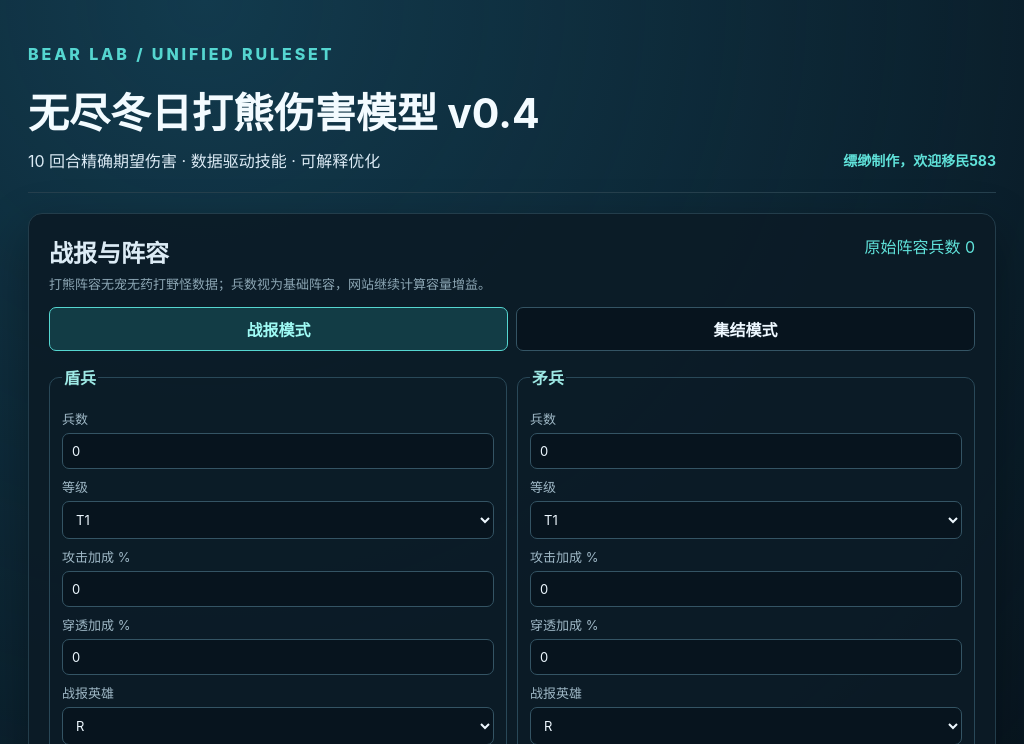
计算器UI有限选项与技能说明 › 战报与集结模式分别保存输入且集结模式隐藏容量等级
The image size is (1024, 744).
Expected: the element named "输入方式" is shown, left=49, top=307, right=975, bottom=351
Replace the text in the number field named "盾兵兵数" with "777" at (278, 451), box left=62, top=433, right=494, bottom=469
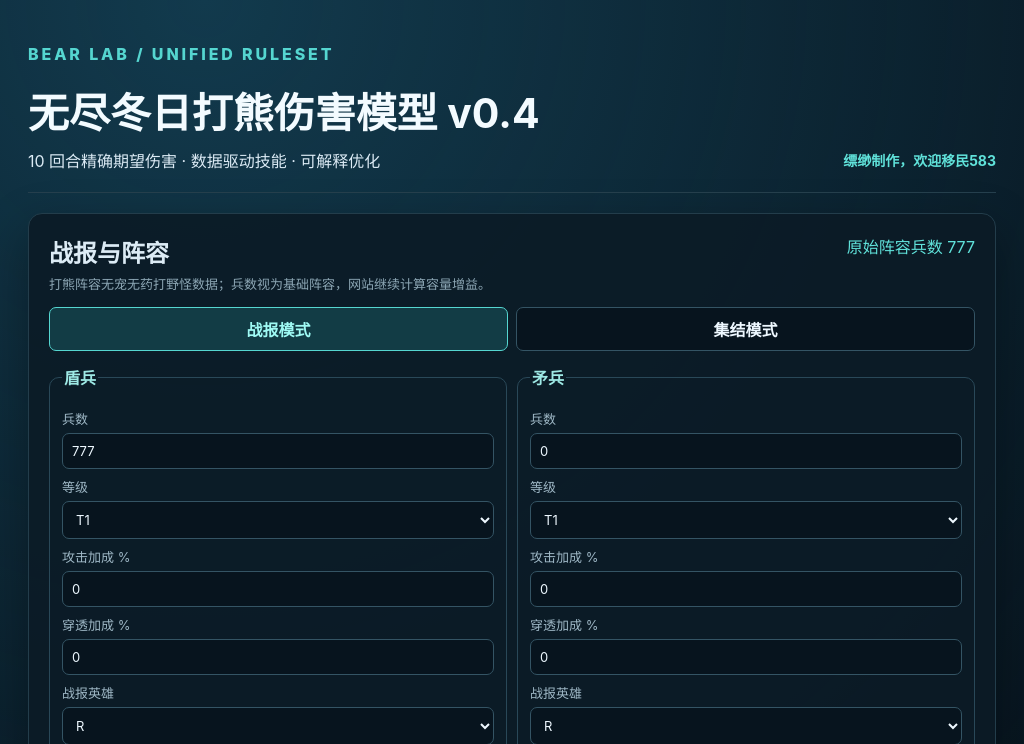
Click the button "集结模式" at (746, 329), box left=516, top=307, right=975, bottom=351
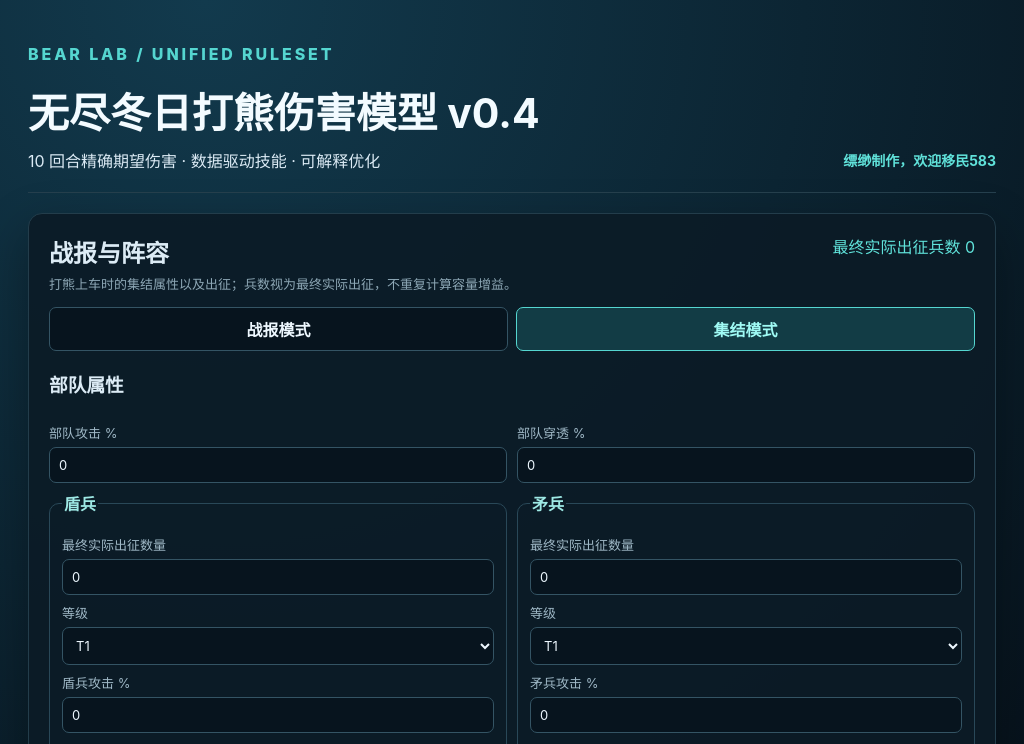
Expected: the text "打熊上车时的集结属性以及出征；兵数视为最终实际出征，不重复计算容量增益。" is shown, left=49, top=274, right=517, bottom=293
Expected: the number field labelled "部队攻击" is shown, left=49, top=447, right=507, bottom=483
Expected: the number field labelled "部队穿透" is shown, left=517, top=447, right=975, bottom=483
Replace the text in the number field named "盾兵兵数" with "888" at (278, 577), box left=62, top=559, right=494, bottom=595
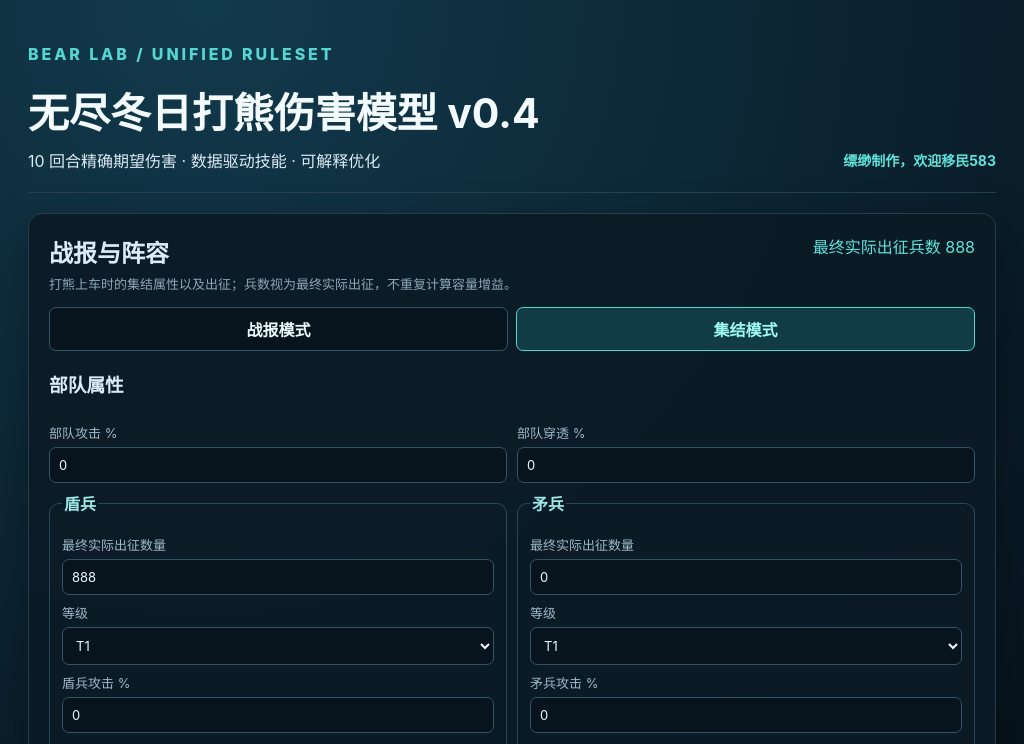
Replace the text in the number field labelled "部队攻击" with "333" at (278, 465), box left=49, top=447, right=507, bottom=483
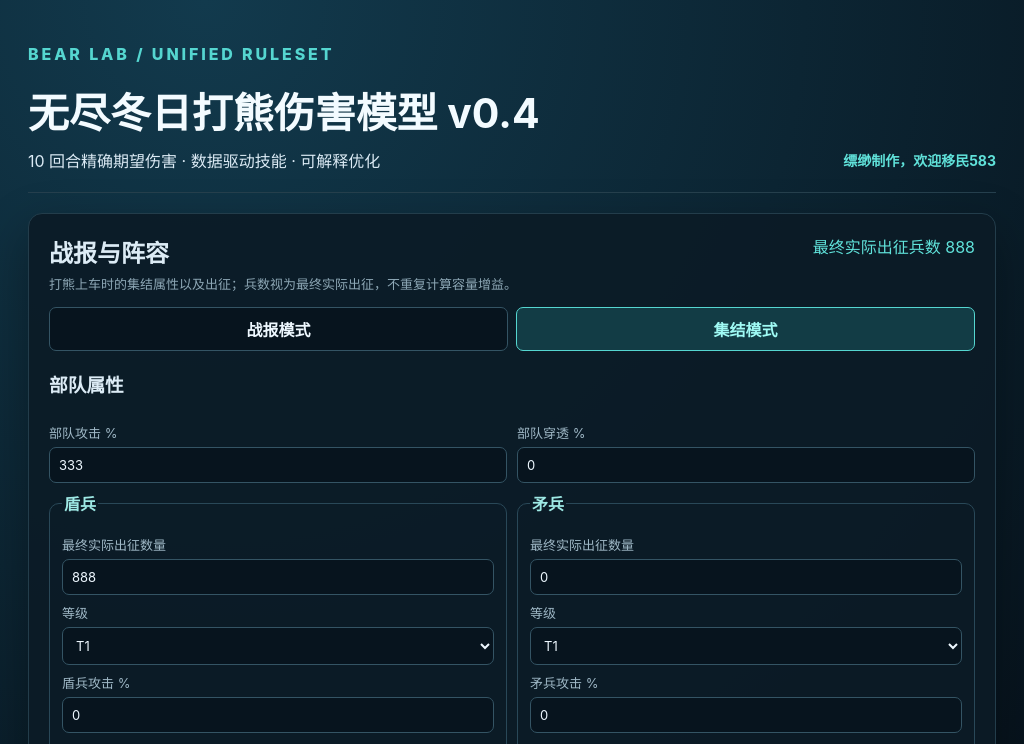
Click the button "战报模式" at (278, 329), box left=49, top=307, right=508, bottom=351
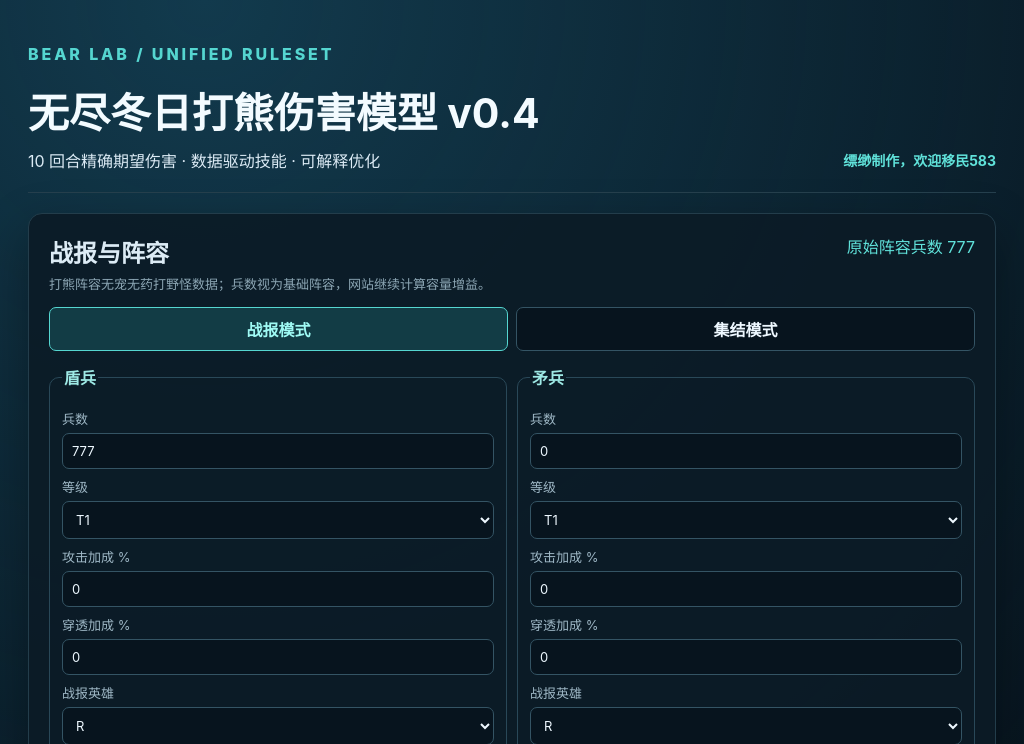
Click the button "集结模式" at (746, 329), box left=516, top=307, right=975, bottom=351
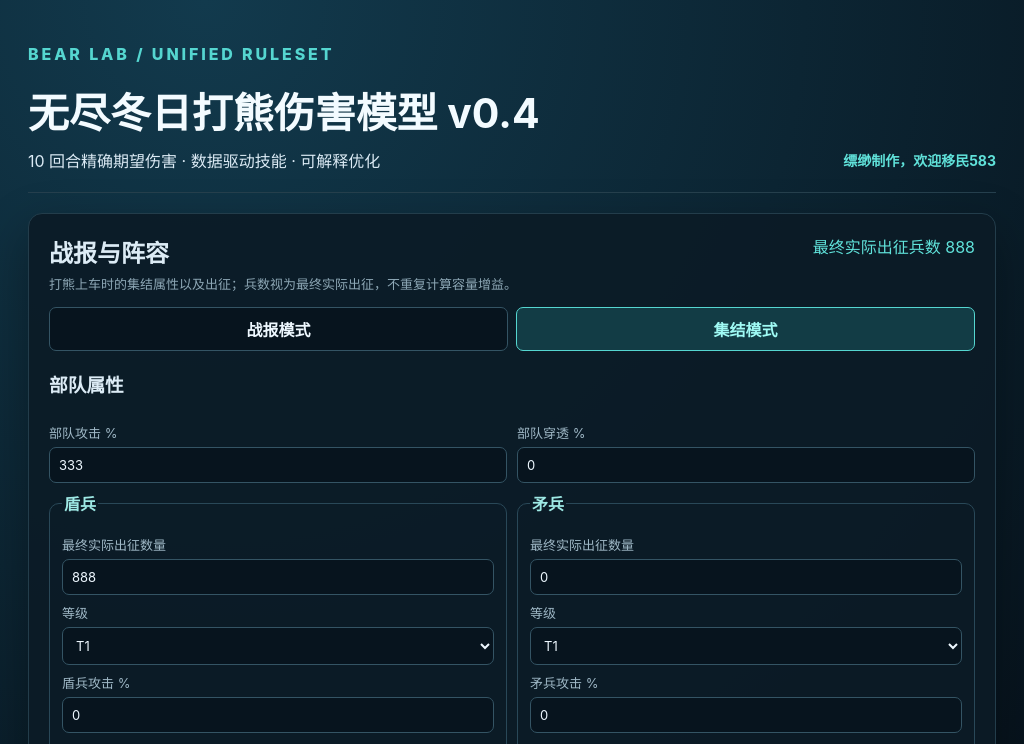
Expected: the number field labelled "部队攻击" holds "333", left=49, top=447, right=507, bottom=483
